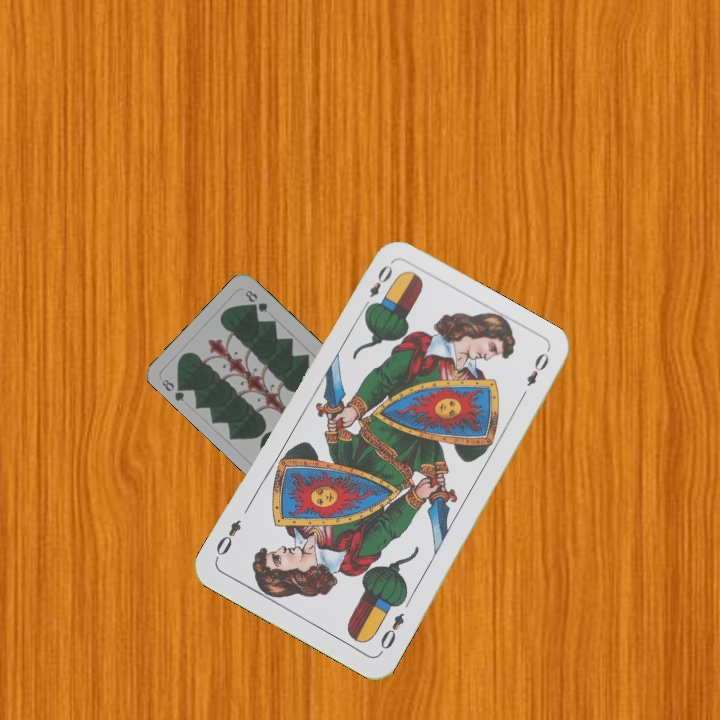EO: (359, 260, 396, 314), (376, 608, 407, 657)
G8: (158, 375, 189, 404)
